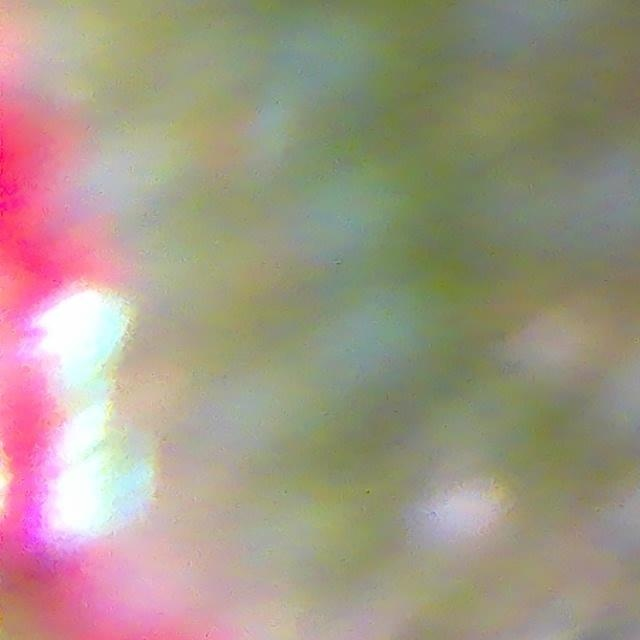SeaGrape: (322, 284, 481, 423), (295, 0, 439, 143), (292, 154, 449, 283)
